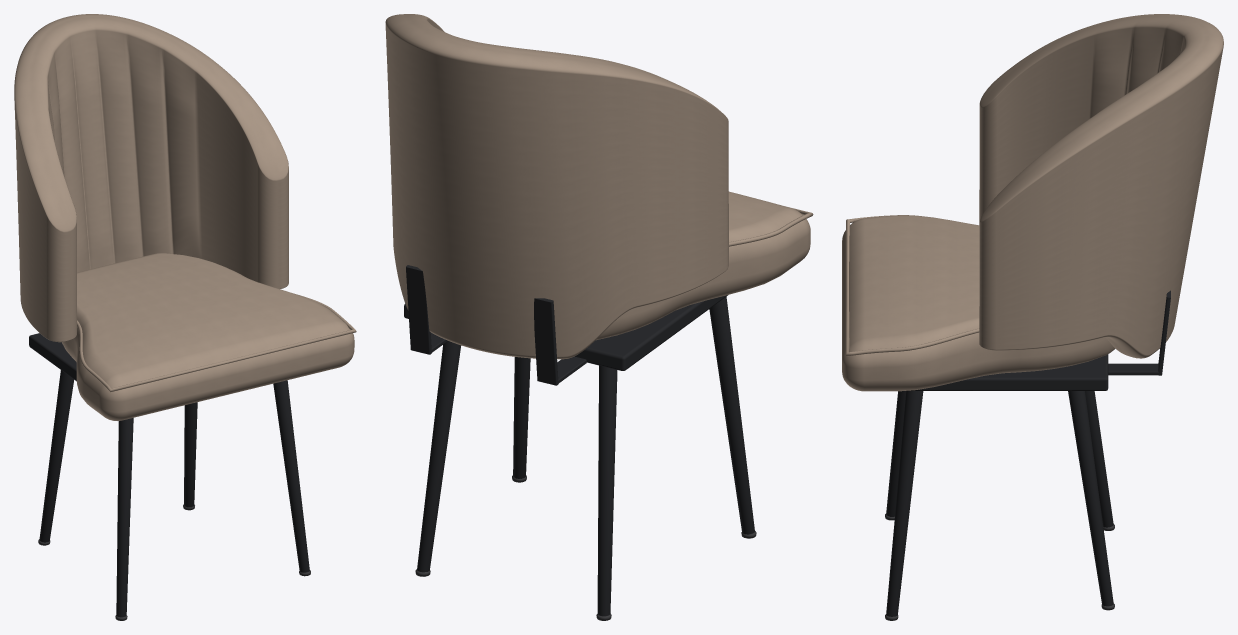
3 renders of one model, left to right at view 1: azimuth 30°, elevation 25°; view 2: azimuth 150°, elevation 25°; view 3: azimuth 270°, elevation 25°, orthographic. The views are drawn at different scales.
Parts seen in each view (by area): view 1: back_shell, seat, leg_-1_1, leg_1_1, leg_-1_-1, seat_welt, leg_1_-1, seat_frame; view 2: back_shell, seat, leg_-1_-1, leg_-1_1, leg_1_-1, seat_frame, leg_1_1, back_strap_-1, back_strap_1; view 3: back_shell, seat, seat_frame, leg_1_1, leg_1_-1, leg_-1_-1, seat_welt, leg_-1_1, back_bracket_1.
Part boxes in pixels (left/top/right/bottom): back_shell: left=14, top=14, right=288, bottom=342; seat: left=61, top=253, right=354, bottom=420; leg_-1_1: left=116, top=418, right=133, bottom=617; leg_1_1: left=273, top=380, right=309, bottom=572; leg_-1_-1: left=39, top=370, right=73, bottom=542; seat_welt: left=77, top=270, right=356, bottom=392; leg_1_-1: left=184, top=402, right=197, bottom=507; seat_frame: left=29, top=333, right=76, bottom=380; back_shell: left=385, top=14, right=728, bottom=359; seat: left=596, top=191, right=810, bottom=340; leg_-1_-1: left=597, top=365, right=617, bottom=616; leg_-1_1: left=709, top=296, right=754, bottom=534; leg_1_-1: left=417, top=341, right=461, bottom=572; seat_frame: left=404, top=295, right=727, bottom=370; leg_1_1: left=513, top=357, right=530, bottom=478; back_strap_-1: left=534, top=298, right=558, bottom=385; back_strap_1: left=406, top=265, right=431, bottom=354; back_shell: left=979, top=14, right=1223, bottom=358; seat: left=842, top=215, right=1115, bottom=391; seat_frame: left=906, top=354, right=1108, bottom=390; leg_1_1: left=886, top=391, right=923, bottom=616; leg_1_-1: left=1068, top=391, right=1113, bottom=606; leg_-1_-1: left=1085, top=391, right=1113, bottom=527; seat_welt: left=846, top=215, right=979, bottom=356; leg_-1_1: left=886, top=391, right=906, bottom=516; back_bracket_1: left=1108, top=363, right=1160, bottom=375.
Size of the model in its own units: 0.48 by 0.86 by 0.56.
Materials: 3 (1 with a texture image).
